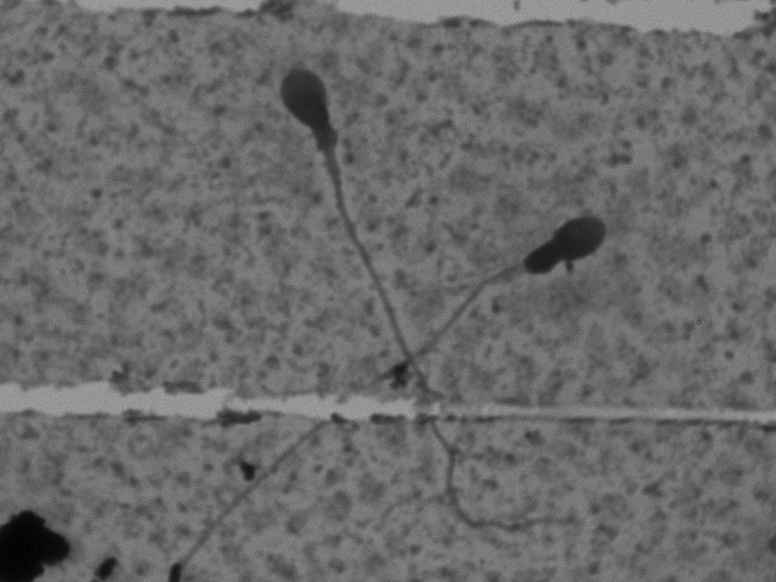Abnormal: (169, 192, 624, 567), (251, 50, 597, 543)
